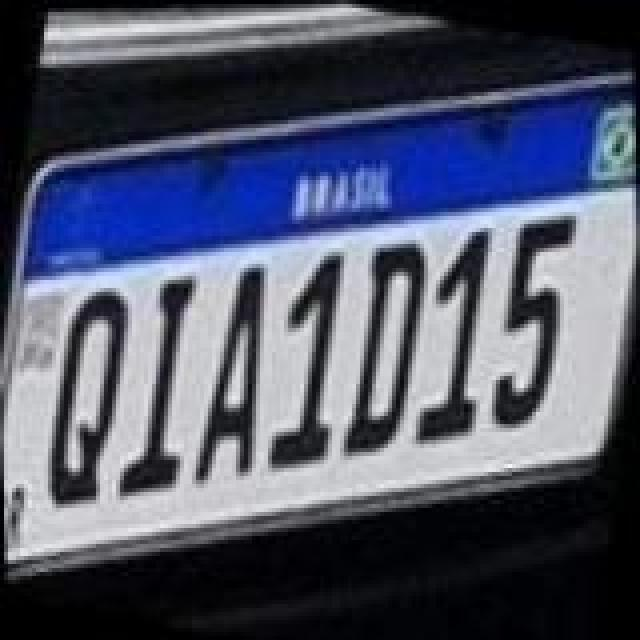1: (256, 242, 368, 482), (398, 216, 510, 452)
5: (476, 198, 584, 434)
A: (186, 252, 294, 492)
D: (326, 226, 438, 462)
I: (104, 262, 216, 510)
Q: (32, 276, 144, 516)
